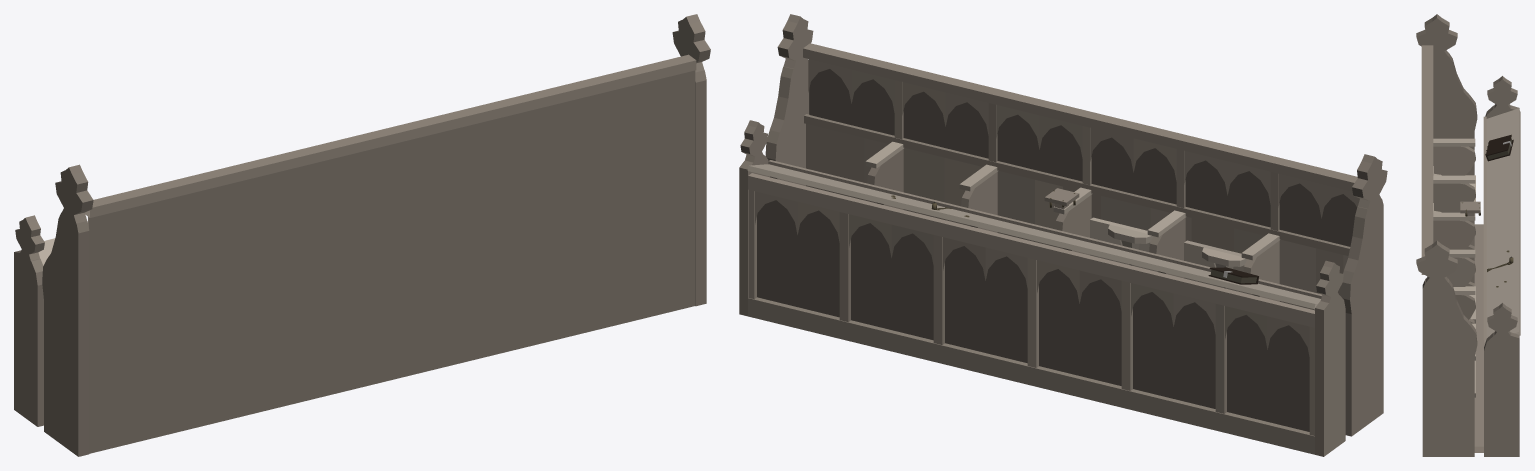
The model's file is prop_choir_stalls_b.glb.
3 renders of one model, left to right at view 1: azimuth 30°, elevation 25°; view 2: azimuth 150°, elevation 25°; view 3: azimuth 270°, elevation 25°, orthographic. The views are drawn at different scales.
Visible parts, largest first — view 1: ChoirStallsB; view 2: ChoirStallsB; view 3: ChoirStallsB.
Part boxes in pixels (box(x1,y1,x2,y2)): ChoirStallsB: box(14, 14, 710, 456); ChoirStallsB: box(739, 14, 1387, 456); ChoirStallsB: box(1416, 14, 1520, 456).
Size of the model in its own units: 4 by 1.72 by 0.7636.
